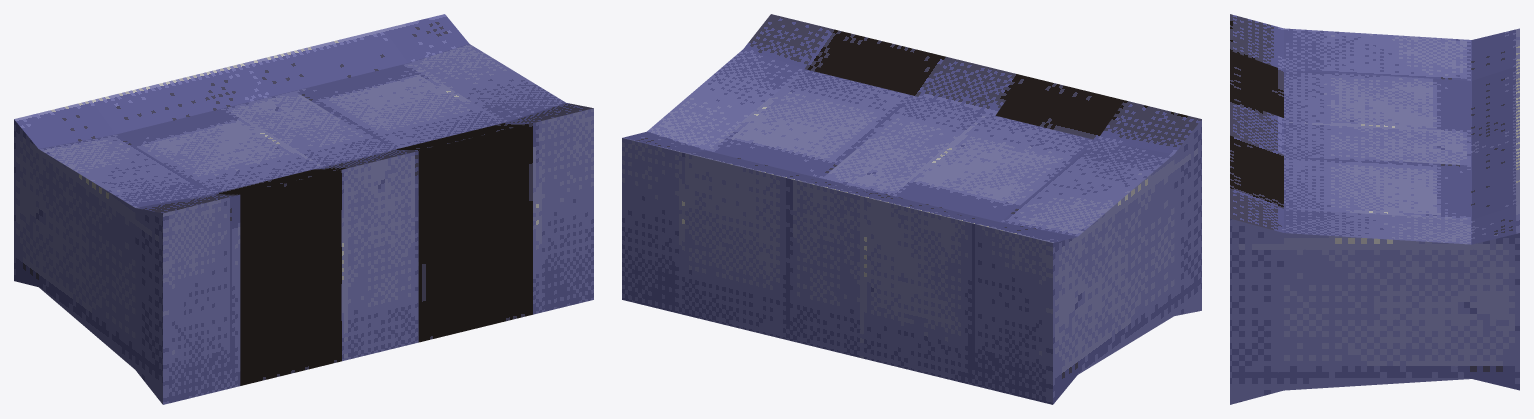
The model's file is Road_Blocks_-_Blue.glb.
3 renders of one model, left to right at view 1: azimuth 30°, elevation 25°; view 2: azimuth 150°, elevation 25°; view 3: azimuth 270°, elevation 25°, orthographic. The views are drawn at different scales.
Visible parts, largest first — view 1: Road Blocks - Blue; view 2: Road Blocks - Blue; view 3: Road Blocks - Blue.
Boxes of the visible parts, x1,y1,x2,y2 form: Road Blocks - Blue: (14, 14, 593, 404); Road Blocks - Blue: (622, 14, 1201, 404); Road Blocks - Blue: (1230, 14, 1519, 404).
Bounding box in the file's own units: 0.462 × 0.1963 × 0.2766.
Materials: 1 (1 with a texture image).
